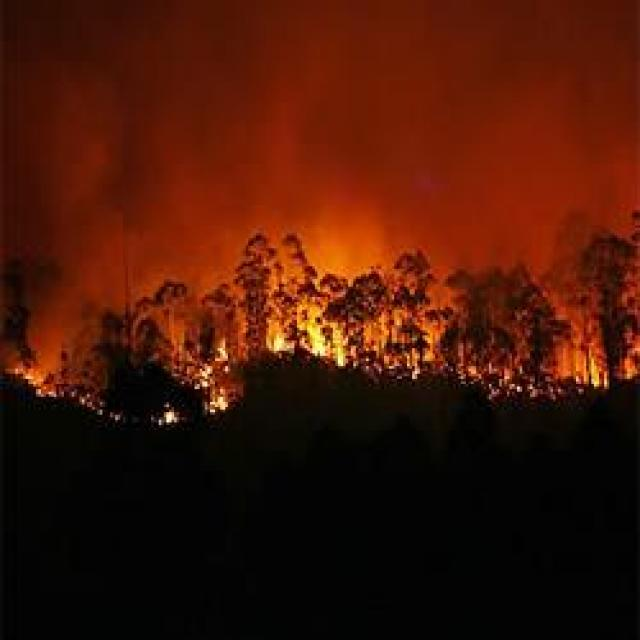fire: (265, 310, 354, 367)
smoke: (46, 72, 154, 303), (516, 54, 640, 236), (301, 207, 390, 278)
